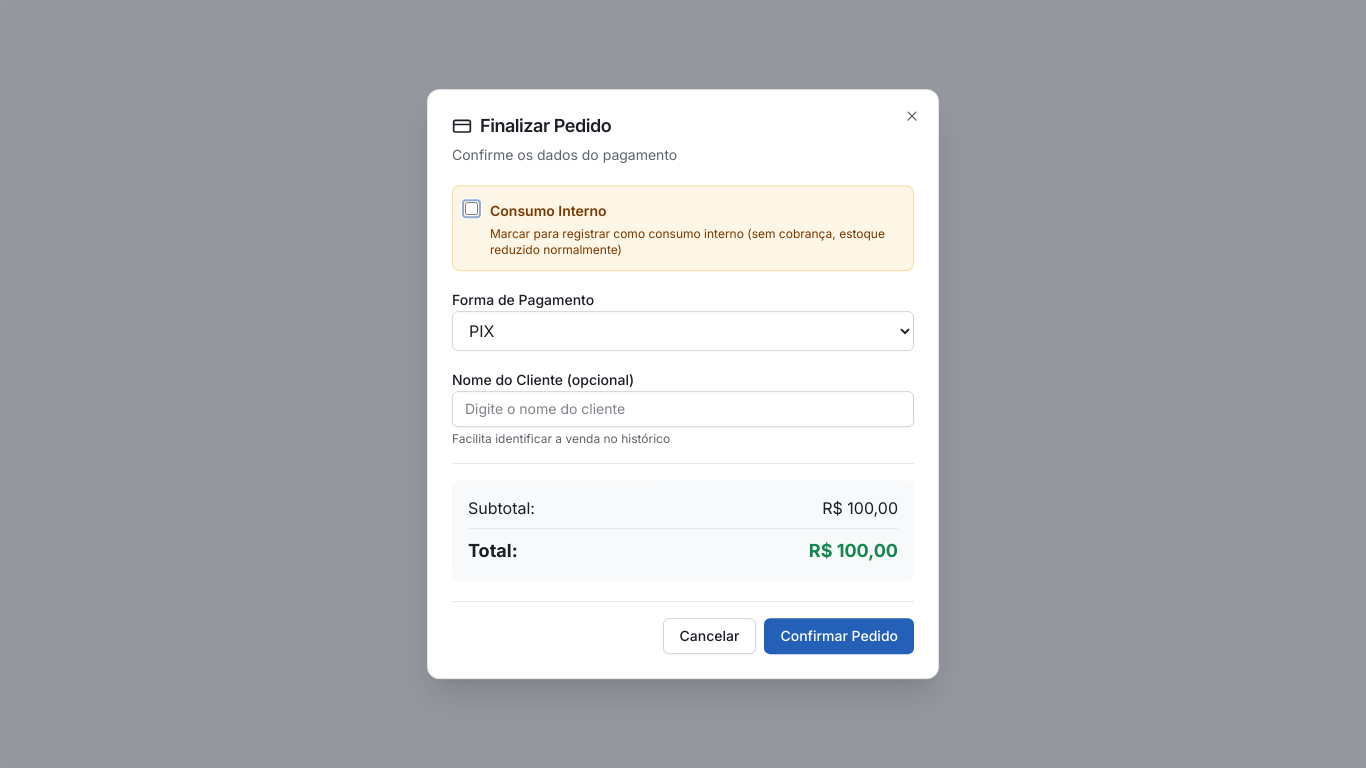
Test: ModalFinalizarPedido - Consumo Interno Checkbox › quando marcado: total é zerado visualmente
Click the checkbox labelled "Consumo Interno" at (472,208), box [465,202,478,215]
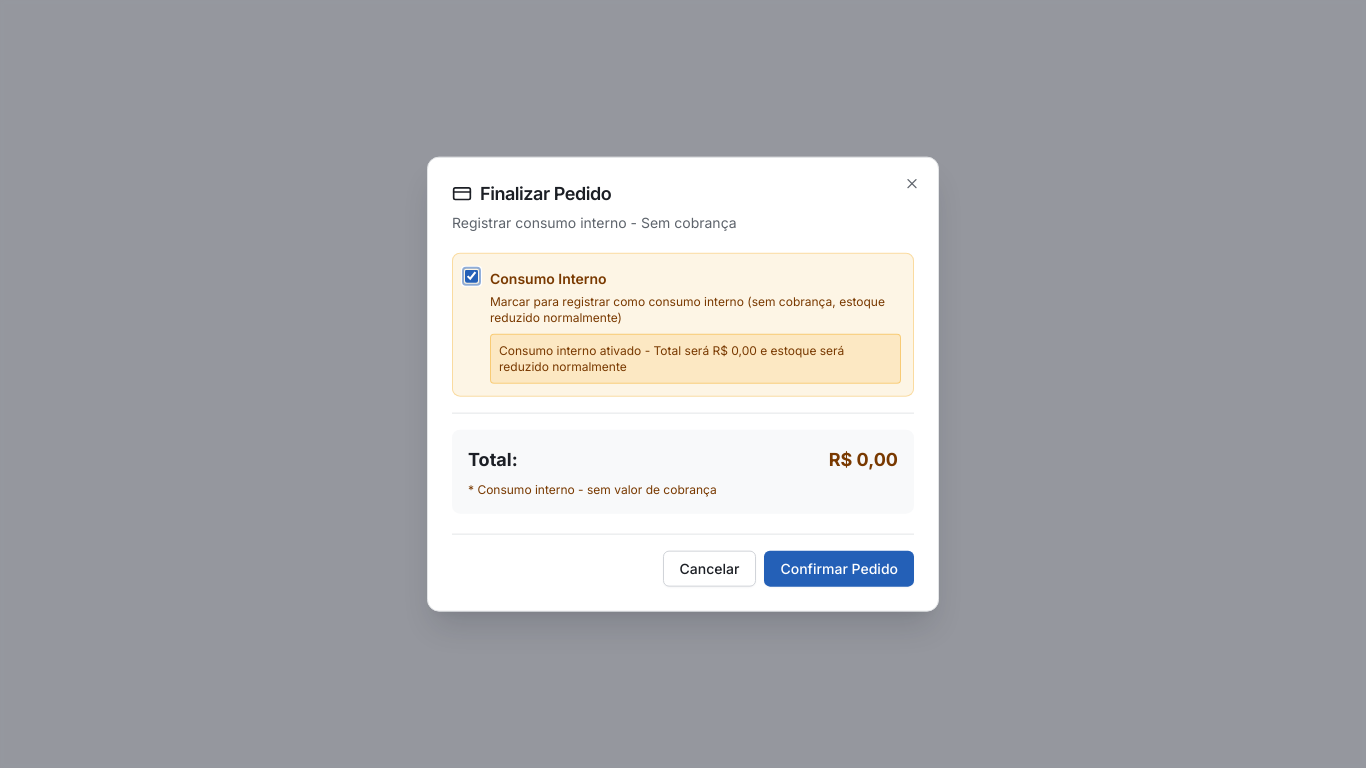
Expected: the text "R$ 0,00" is shown, [829,445,898,473]
